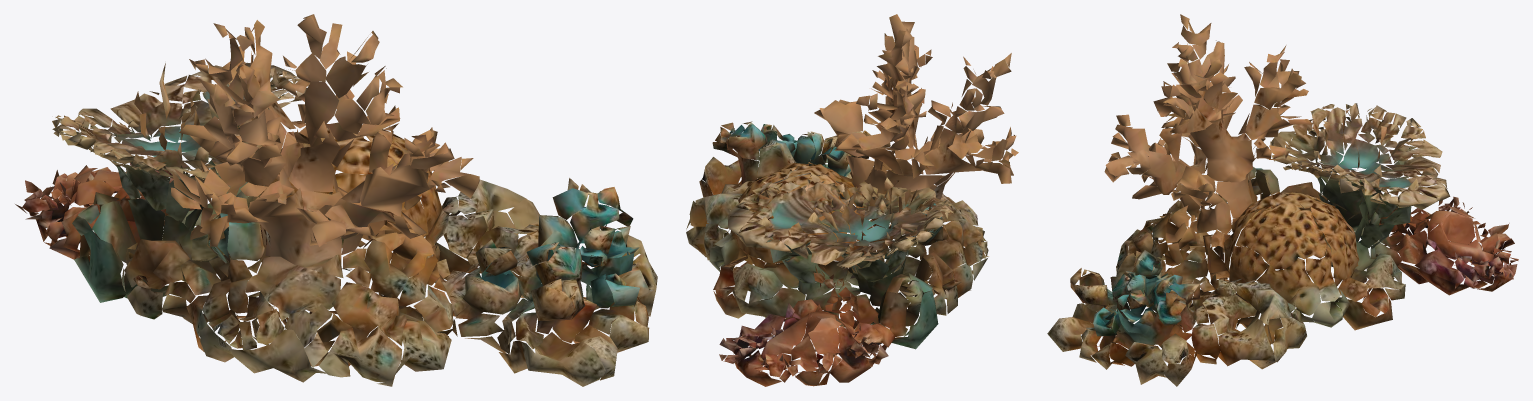
File: reefmass_a.glb
3 renders of one model, left to right at view 1: azimuth 30°, elevation 25°; view 2: azimuth 150°, elevation 25°; view 3: azimuth 270°, elevation 25°, orthographic. The views are drawn at different scales.
Parts seen in each view (by area): view 1: tripo_node_644a5cf5-50c0-48bb-8c4e-a936af62567c; view 2: tripo_node_644a5cf5-50c0-48bb-8c4e-a936af62567c; view 3: tripo_node_644a5cf5-50c0-48bb-8c4e-a936af62567c.
Part boxes in pixels (x1,y1,x2,y2): tripo_node_644a5cf5-50c0-48bb-8c4e-a936af62567c: (15,14,657,386); tripo_node_644a5cf5-50c0-48bb-8c4e-a936af62567c: (686,14,1018,386); tripo_node_644a5cf5-50c0-48bb-8c4e-a936af62567c: (1047,14,1518,386).
Bounding box in the file's own units: 0.7995 × 0.5719 × 0.9954.
1 material, 1 textured.
